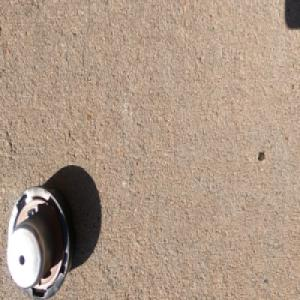FuelCap: (5, 182, 76, 299)
